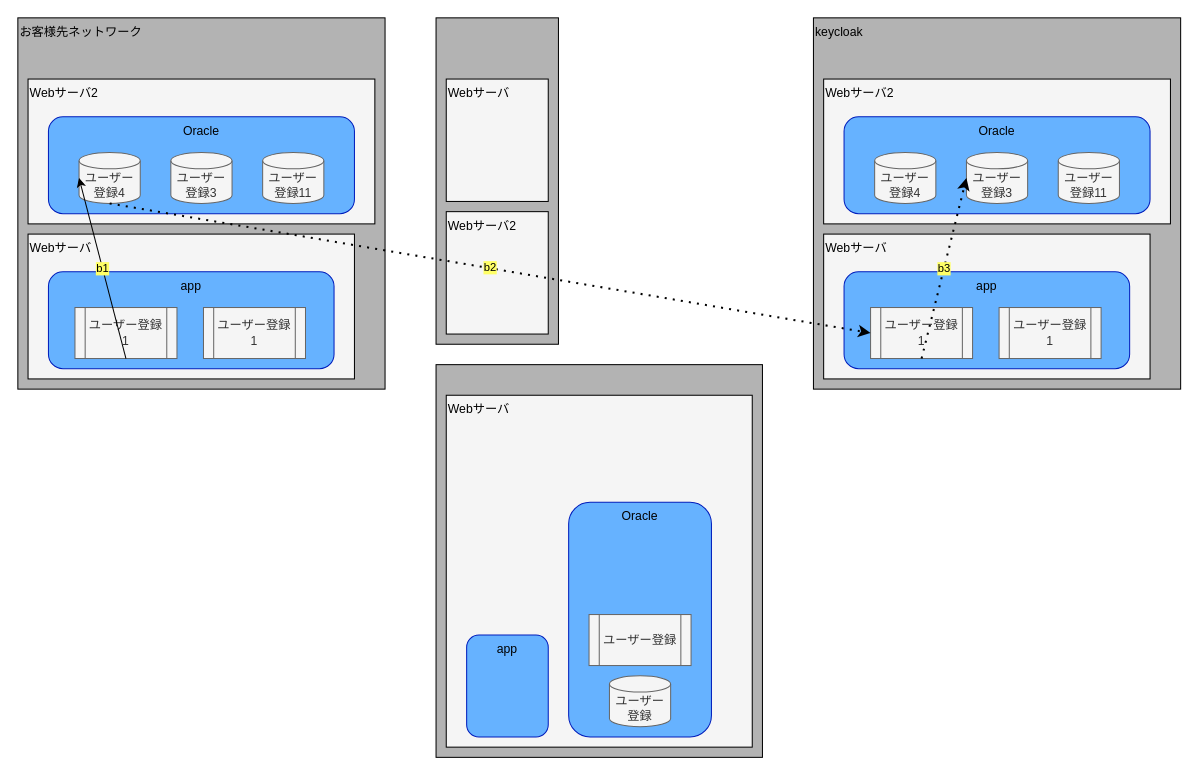
The diagram is 1199 pixels wide and 775 high, and some of its shapes have lost their labels. The box of each missing label's shape, as (x1, y1, x2, y2) in pixels:
WAN: (435, 17, 558, 344)
WAN2: (435, 364, 762, 757)
